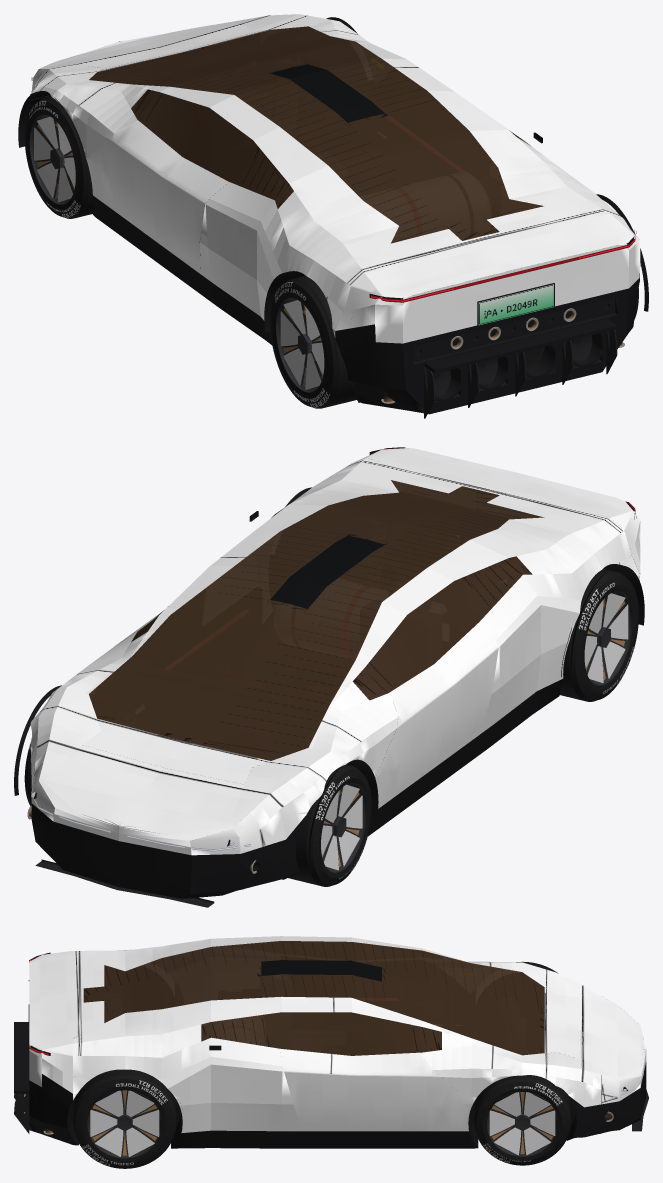
File: roadster.glb
3 views of the same model, one above another, from view 1: azimuth 30°, elevation 25°; view 2: azimuth 150°, elevation 25°; view 3: azimuth 270°, elevation 25° (orthographic). The views are drawn at different scales.
Parts seen in each view (by area): view 1: Body, Glass, Door_L, Bumper_R, Wing, Tyre_RL, Skirt_L, Wheel_RL, TrimDetails, Wheel_FL, Tyre_FL, InnerDark (+7 smaller); view 2: Body, Glass, Door_L, Bumper_F, Wing, Tyre_RL, Hood, Skirt_L, Tyre_FL, Wheel_RL, Wheel_FL, ArchLiners (+2 smaller); view 3: Body, Glass, Door_R, Wing, Skirt_R, Tyre_RR, Wheel_RR, Wheel_FR, Tyre_FR, Bumper_F, Bumper_R, Hood (+3 smaller).
Part boxes in pixels (<box>): Body: <box>30,14,640,413</box>; Glass: <box>89,26,543,243</box>; Door_L: <box>85,94,257,273</box>; Bumper_R: <box>269,265,640,414</box>; Wing: <box>335,214,639,330</box>; Tyre_RL: <box>270,275,356,408</box>; Skirt_L: <box>98,199,272,345</box>; Wheel_RL: <box>276,298,324,392</box>; TrimDetails: <box>369,132,634,401</box>; Wheel_FL: <box>29,114,75,204</box>; Tyre_FL: <box>24,96,93,218</box>; InnerDark: <box>414,297,617,364</box>; Body: <box>30,458,640,898</box>; Glass: <box>89,480,544,760</box>; Door_L: <box>372,578,498,807</box>; Bumper_F: <box>30,750,375,898</box>; Wing: <box>354,448,640,574</box>; Tyre_RL: <box>559,568,638,701</box>; Hood: <box>82,725,260,784</box>; Skirt_L: <box>372,679,562,832</box>; Tyre_FL: <box>288,764,371,886</box>; Wheel_RL: <box>584,591,632,685</box>; Wheel_FL: <box>321,783,366,872</box>; ArchLiners: <box>14,487,644,867</box>; Body: <box>29,936,646,1145</box>; Glass: <box>83,941,544,1055</box>; Door_R: <box>271,1012,472,1131</box>; Wing: <box>29,951,77,1093</box>; Skirt_R: <box>181,1130,461,1148</box>; Tyre_RR: <box>73,1069,176,1168</box>; Wheel_RR: <box>87,1090,162,1158</box>; Wheel_FR: <box>487,1092,558,1156</box>; Tyre_FR: <box>474,1075,570,1165</box>; Bumper_F: <box>461,1062,646,1148</box>; Bumper_R: <box>29,1074,182,1148</box>; Hood: <box>550,991,577,1058</box>.
Size of the model in its own units: 1.99 by 1.14 by 4.51.
Materials: 30 (15 with a texture image).
